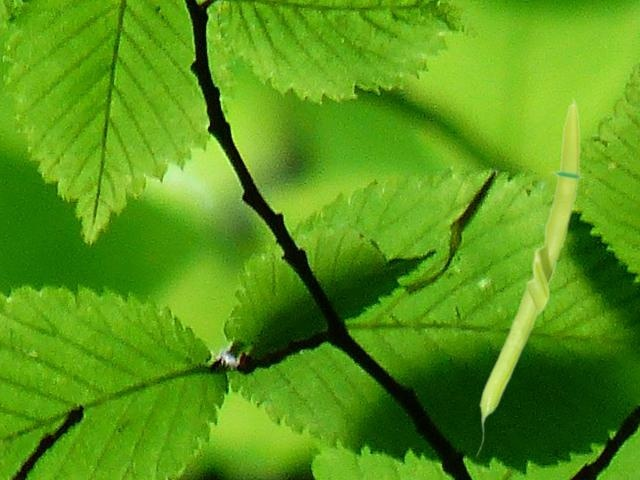french_bean: (475, 95, 583, 457)
